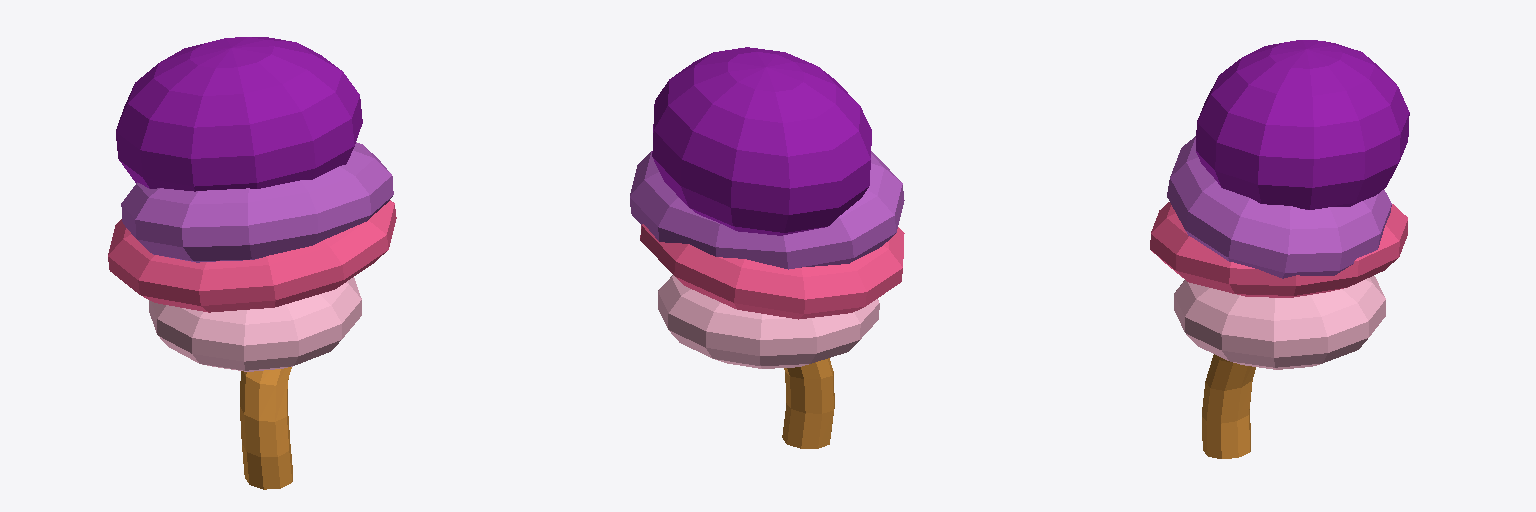
3 renders of one model, left to right at view 1: azimuth 30°, elevation 25°; view 2: azimuth 150°, elevation 25°; view 3: azimuth 270°, elevation 25°, orthographic.
Visible parts, largest first — view 1: group[number redacted], group[number redacted], group[number redacted], group[number redacted], group[number redacted]; view 2: group[number redacted], group[number redacted], group[number redacted], group[number redacted], group[number redacted]; view 3: group[number redacted], group[number redacted], group[number redacted], group[number redacted], group[number redacted].
Part boxes in pixels (x1,y1,x2,y2): group[number redacted]: (116, 37, 362, 191); group[number redacted]: (121, 142, 393, 262); group[number redacted]: (108, 200, 396, 312); group[number redacted]: (149, 277, 361, 371); group[number redacted]: (240, 367, 292, 489); group[number redacted]: (652, 47, 871, 235); group[number redacted]: (630, 151, 904, 269); group[number redacted]: (640, 224, 904, 319); group[number redacted]: (658, 275, 879, 368); group[number redacted]: (782, 358, 834, 448); group[number redacted]: (1196, 40, 1409, 209); group[number redacted]: (1167, 136, 1391, 278); group[number redacted]: (1174, 276, 1385, 369); group[number redacted]: (1150, 202, 1407, 297); group[number redacted]: (1202, 354, 1255, 458).
Bounding box in the file's own units: 0.4109 × 0.6246 × 0.3648.